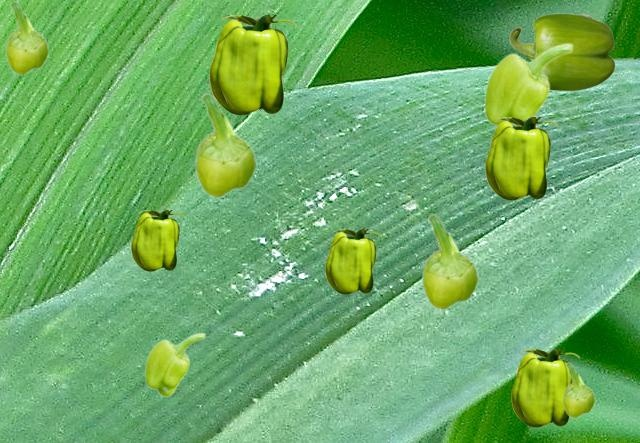bell_pepper: (209, 15, 295, 114), (509, 13, 614, 90), (483, 42, 573, 127), (194, 93, 256, 197), (485, 117, 556, 199), (421, 214, 478, 309), (511, 349, 578, 426), (144, 332, 205, 396), (325, 229, 380, 293), (5, 1, 48, 74), (131, 210, 183, 270), (562, 362, 594, 417)
